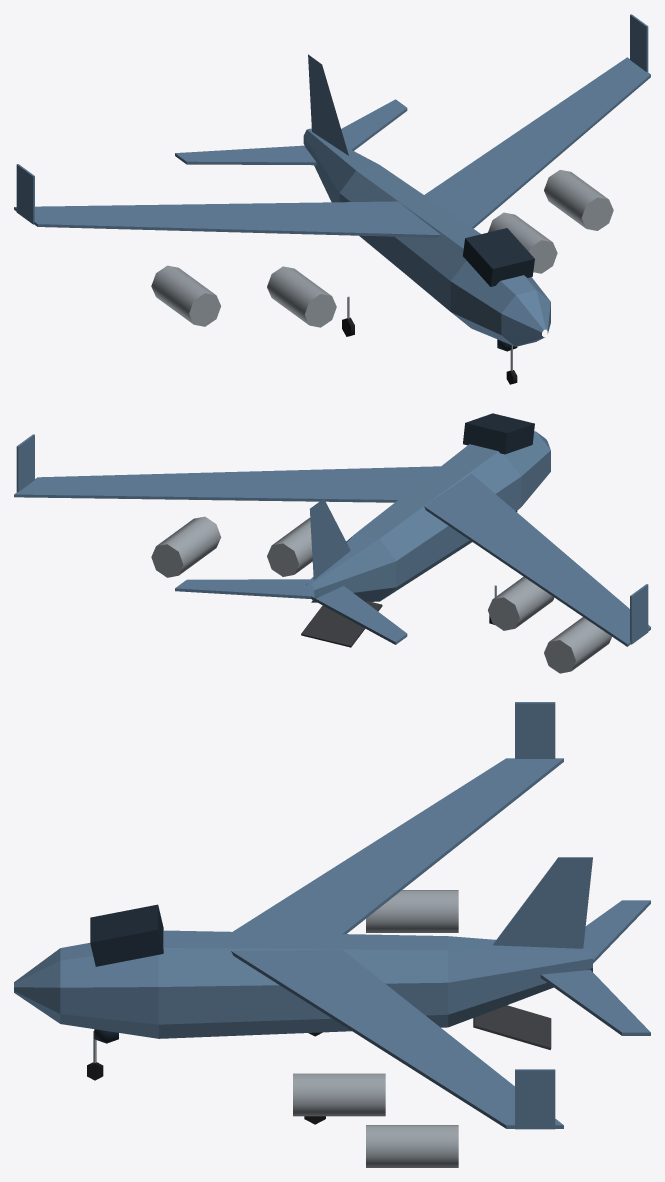
Rendered from veh_air_transport_plane_a10.glb.
3 views of the same model, one above another, from view 1: azimuth 30°, elevation 25°; view 2: azimuth 150°, elevation 25°; view 3: azimuth 270°, elevation 25° (orthographic). The views are drawn at different scales.
Parts seen in each view (by area): view 1: body; view 2: body, ramp; view 3: body, ramp.
Boxes of the visible parts, x1=… form: body: x1=14, y1=14, x2=650, y2=351; body: x1=14, y1=413, x2=650, y2=673; ramp: x1=301, y1=601, x2=382, y2=647; body: x1=14, y1=702, x2=650, y2=1167; ramp: x1=473, y1=1005, x2=551, y2=1049.
Size of what is drawn, in the model's own units: 27.68 by 7.81 by 20.24.
